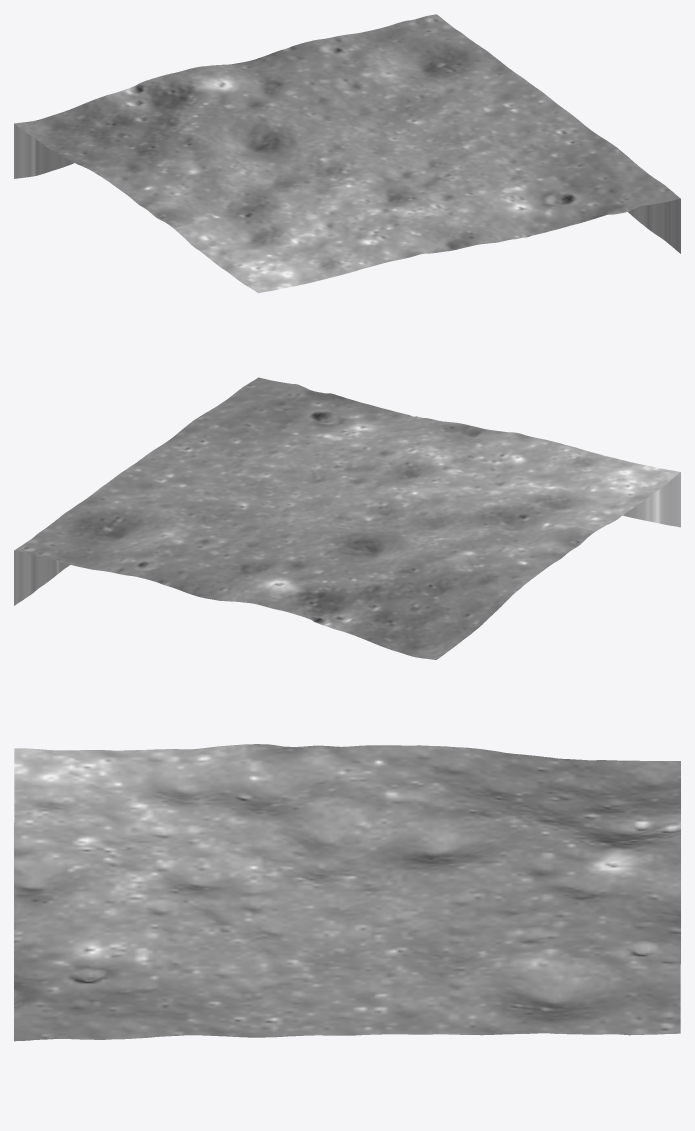
The picture shows the model from 3 angles, top to bottom: view 1: azimuth 30°, elevation 25°; view 2: azimuth 150°, elevation 25°; view 3: azimuth 270°, elevation 25°; orthographic projection. The views are drawn at different scales.
Bounding box in the file's own units: 638 × 103 × 639.
Materials: 1 (1 with a texture image).
